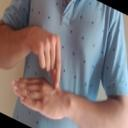hand: (12, 77, 71, 120), (30, 25, 62, 90)
